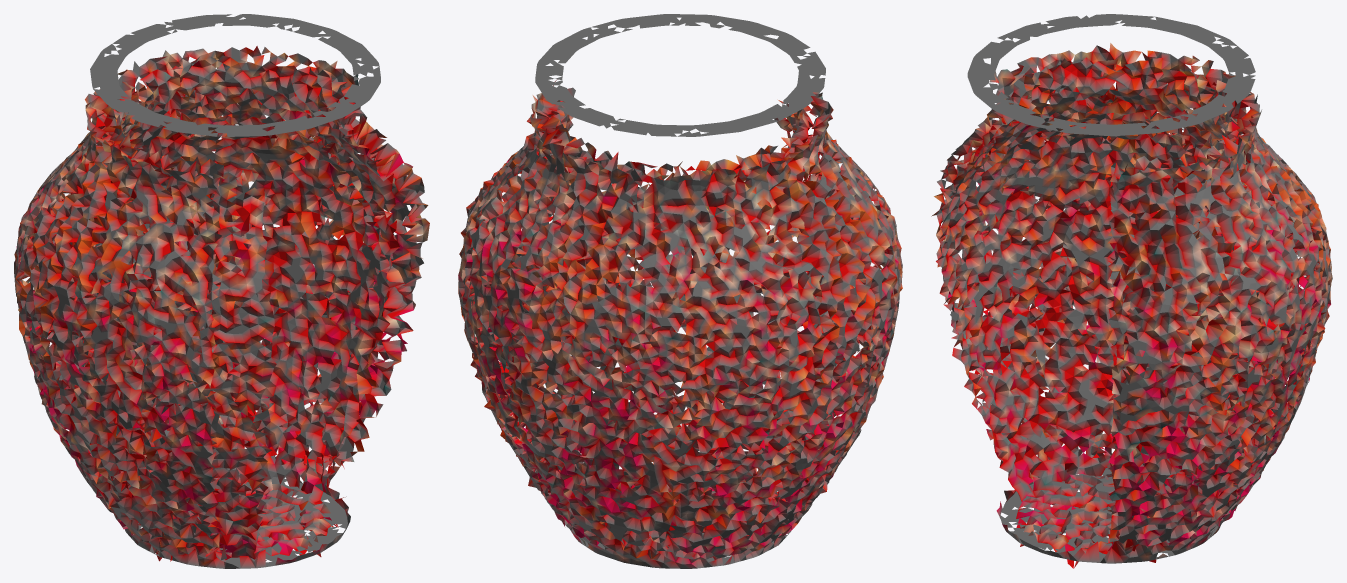
File: vase_final600.obj
3 renders of one model, left to right at view 1: azimuth 30°, elevation 25°; view 2: azimuth 150°, elevation 25°; view 3: azimuth 270°, elevation 25°, orthographic.
Bounding box in the file's own units: 1.55 × 1.76 × 1.4.
